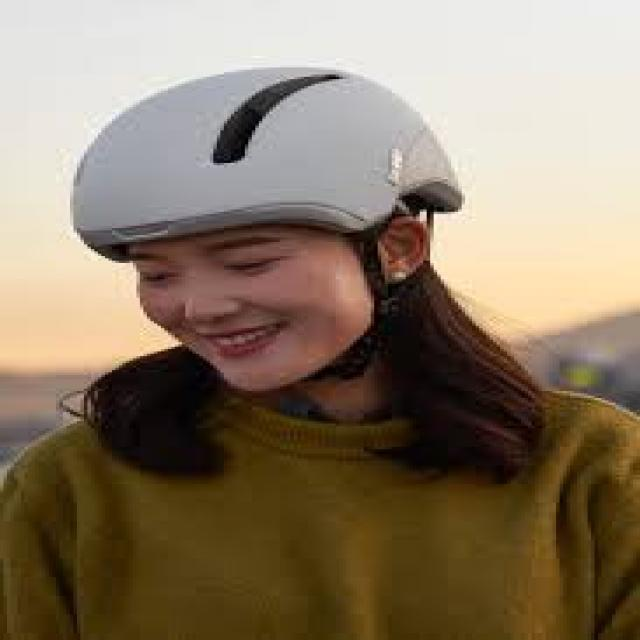Helmet: (62, 50, 477, 419)
